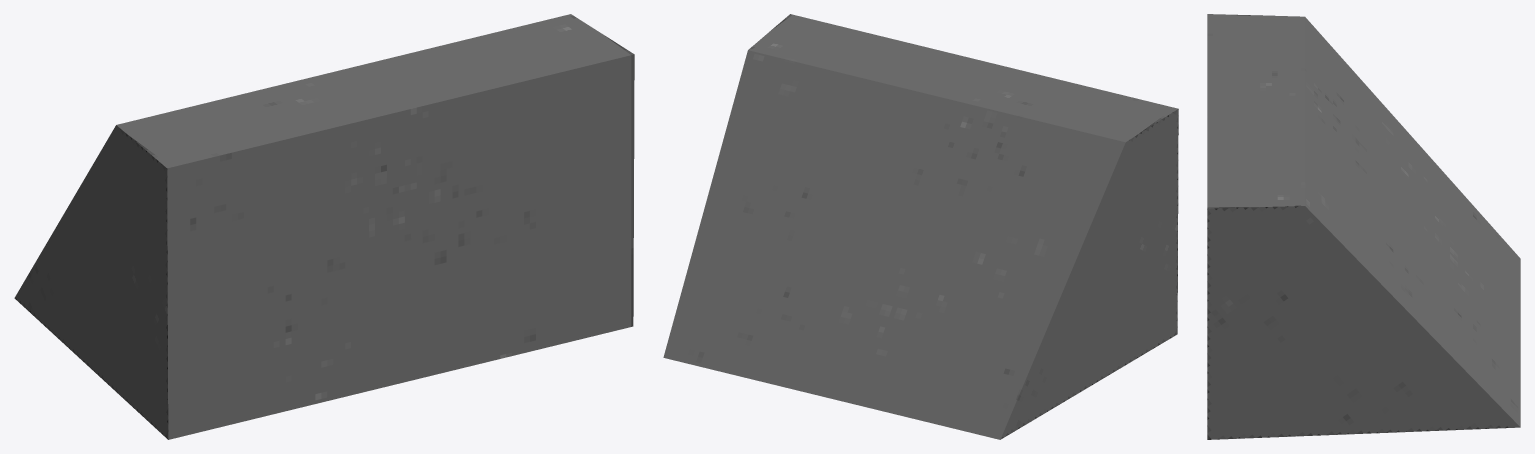
File: Secret_Vertical.fbx
3 renders of one model, left to right at view 1: azimuth 30°, elevation 25°; view 2: azimuth 150°, elevation 25°; view 3: azimuth 270°, elevation 25°, orthographic. The views are drawn at different scales.
Parts seen in each view (by area): view 1: Wall_Secret_Door_North; view 2: Wall_Secret_Door_North; view 3: Wall_Secret_Door_North.
Boxes of the visible parts, x1,y1,x2,y2 form: Wall_Secret_Door_North: (14, 14, 634, 439); Wall_Secret_Door_North: (663, 14, 1178, 439); Wall_Secret_Door_North: (1207, 14, 1520, 439).
Size of the model in its own units: 540 by 300 by 368.
Materials: 1 (1 with a texture image).
